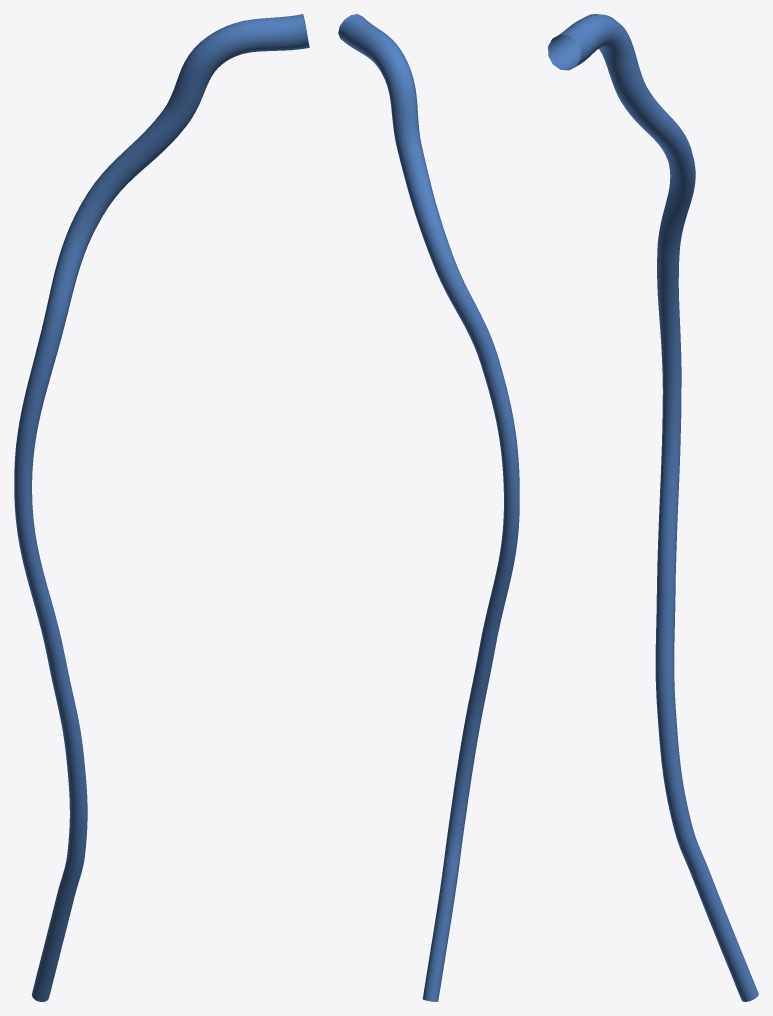
3 views of the same model, side by side, from view 1: azimuth 30°, elevation 25°; view 2: azimuth 150°, elevation 25°; view 3: azimuth 270°, elevation 25° (orthographic). The views are drawn at different scales.
Parts seen in each view (by area): view 1: 左侧上颌静脉; view 2: 左侧上颌静脉; view 3: 左侧上颌静脉.
Boxes of the visible parts, x1,y1,x2,y2 form: 左侧上颌静脉: (14,14,309,1001); 左侧上颌静脉: (338,14,519,1001); 左侧上颌静脉: (548,14,758,1001).
Bounding box in the file's own units: 0.0236 × 0.0919 × 0.0167.
